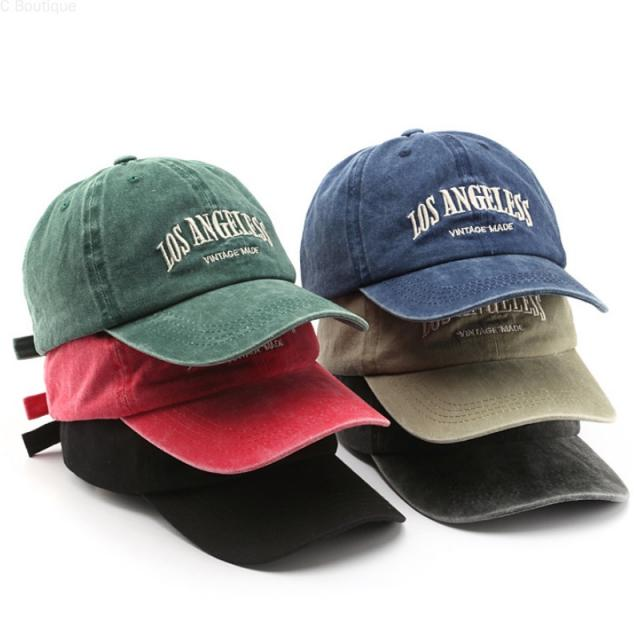mask: (13, 116, 631, 594)
